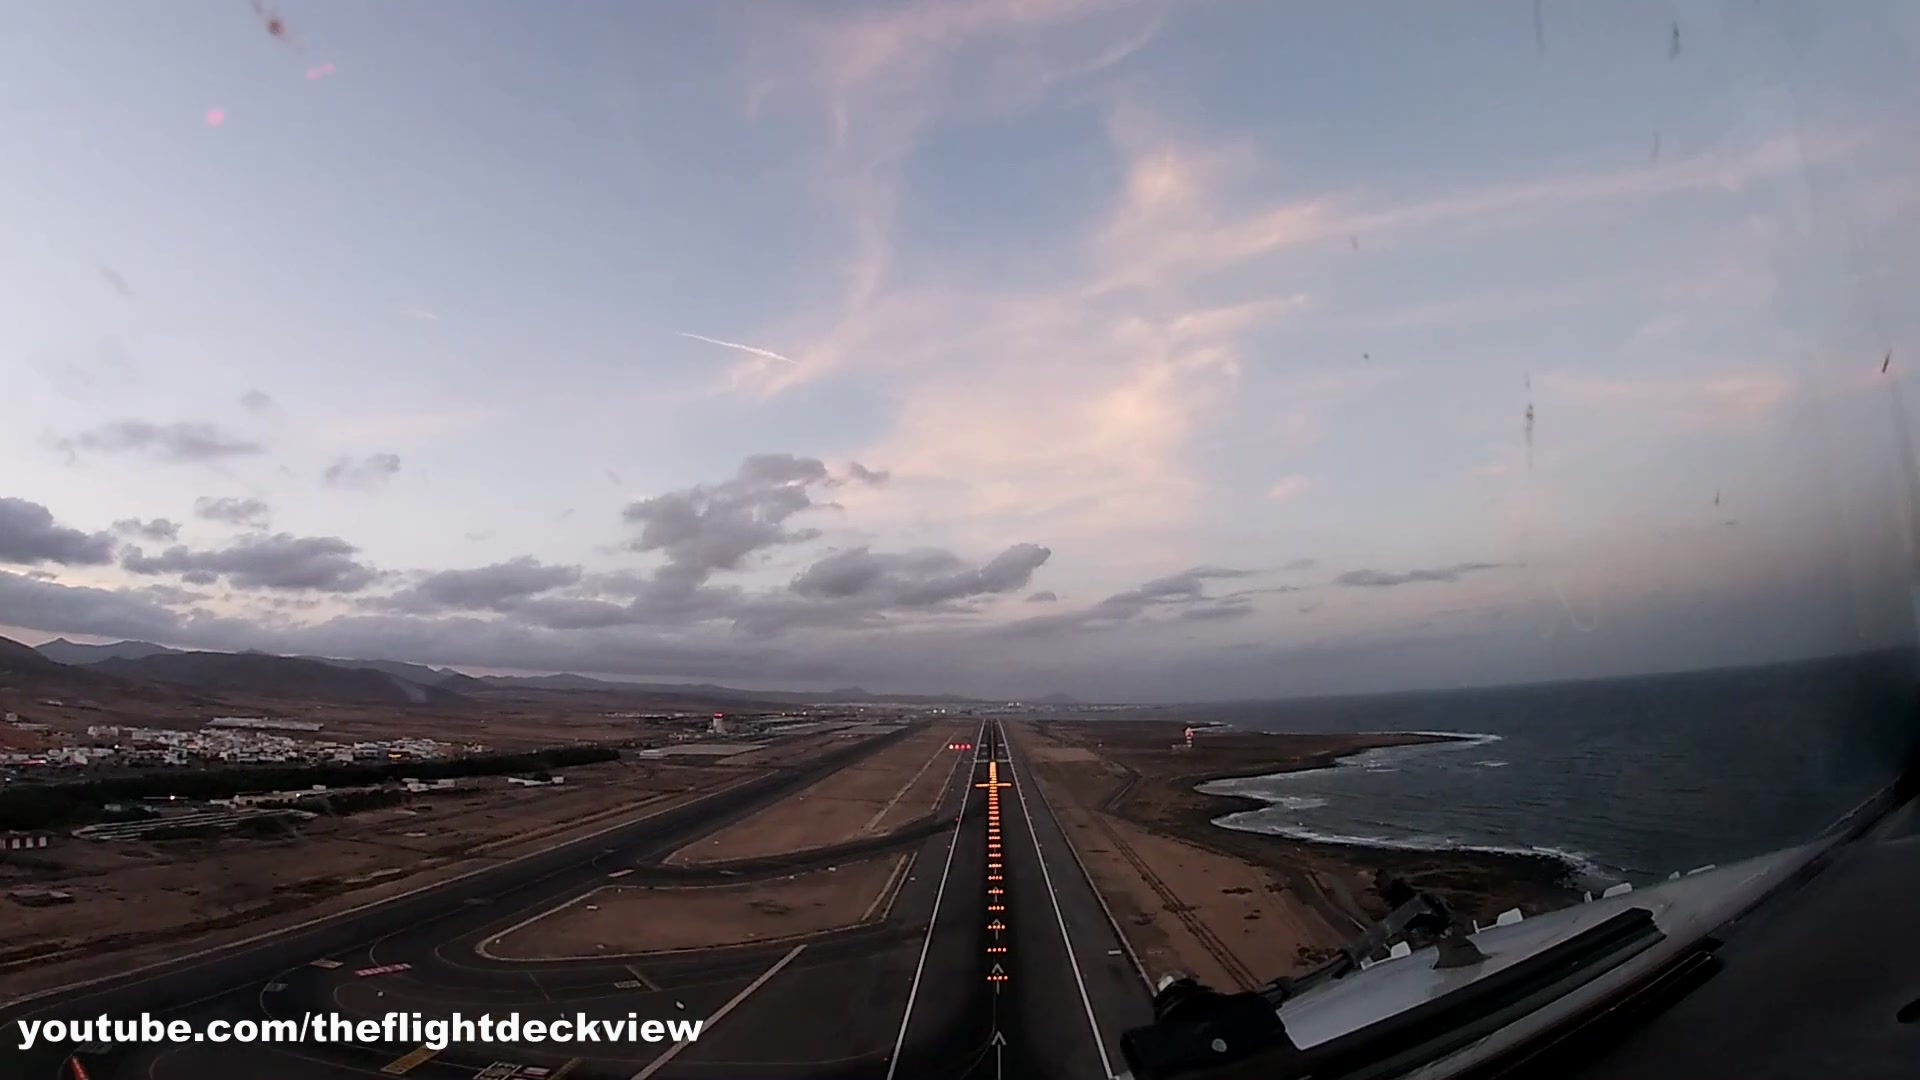runway: (972, 712, 1015, 767)
